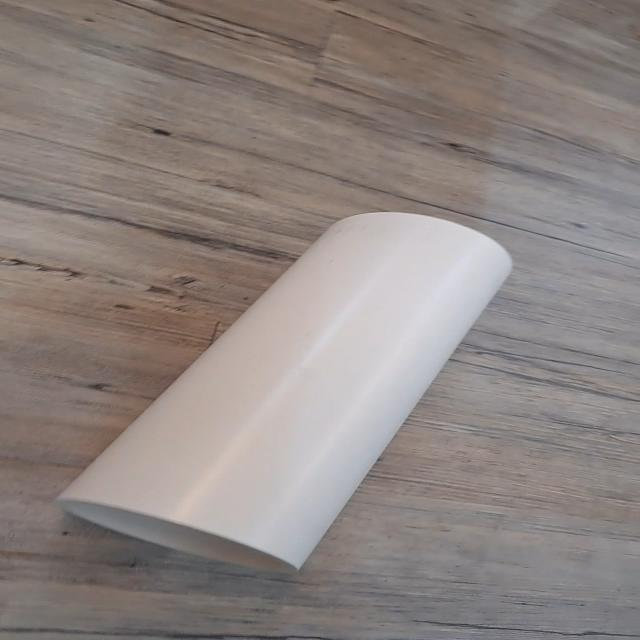CORAL: (39, 207, 525, 577)
